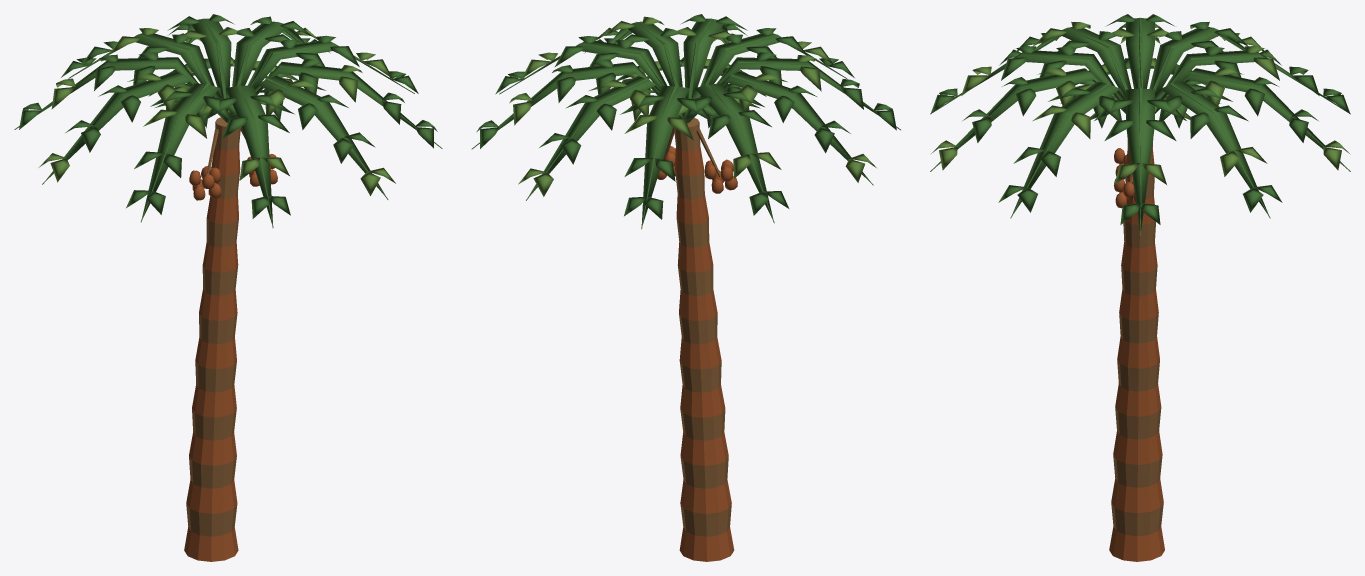
File: Plant_Desert_DatePalm_001.glb
3 renders of one model, left to right at view 1: azimuth 30°, elevation 25°; view 2: azimuth 150°, elevation 25°; view 3: azimuth 270°, elevation 25°, orthographic. The views are drawn at different scales.
Parts seen in each view (by area): view 1: DS_DatePalm_Body; view 2: DS_DatePalm_Body; view 3: DS_DatePalm_Body.
Boxes of the visible parts, x1,y1,x2,y2 form: DS_DatePalm_Body: (14,14,442,561); DS_DatePalm_Body: (471,14,900,561); DS_DatePalm_Body: (930,14,1350,561).
Size of the model in its own units: 3.96 by 4.89 by 3.77.
